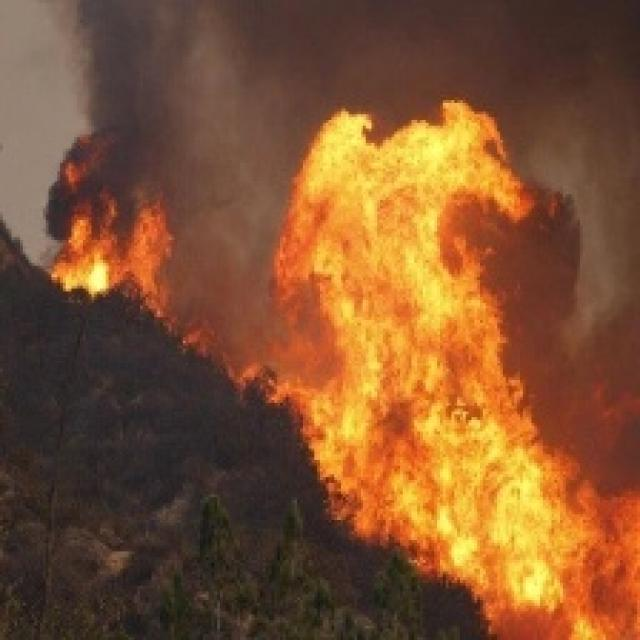Fire: (280, 94, 542, 520), (428, 491, 640, 638), (44, 132, 167, 292)
Smoke: (66, 0, 634, 89), (176, 92, 280, 362)
